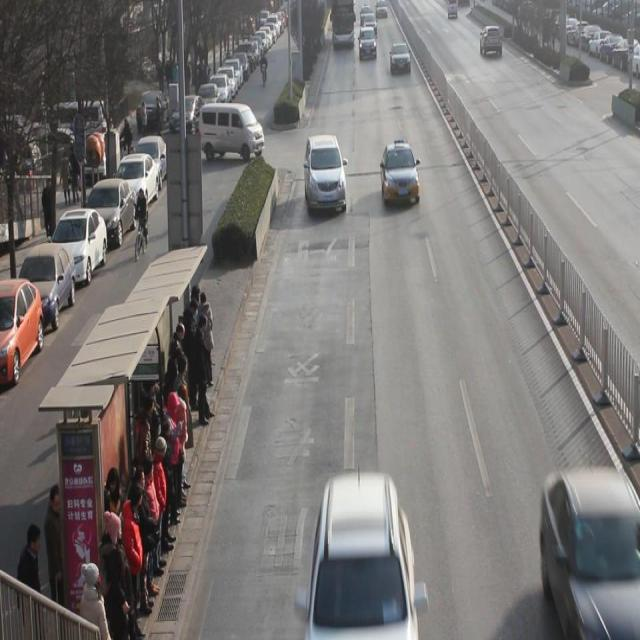car: (304, 474, 420, 640), (541, 469, 640, 640), (305, 135, 348, 217), (380, 142, 420, 206), (481, 25, 504, 60), (390, 42, 412, 77)
